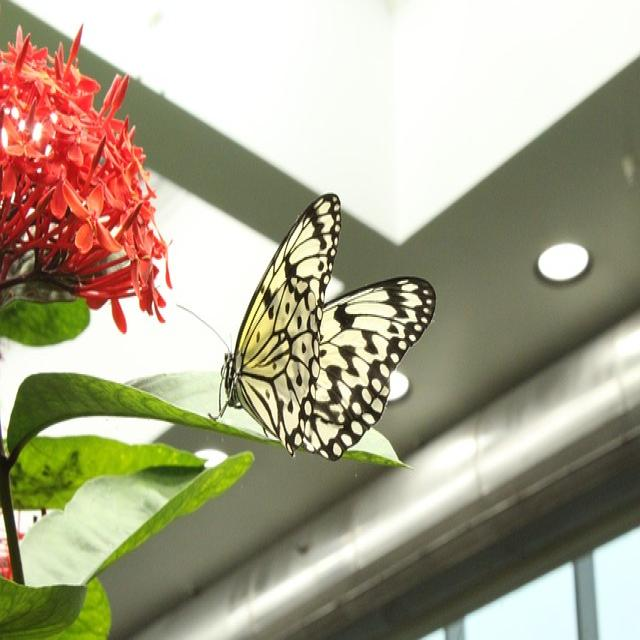butterfly: (220, 194, 437, 463)
